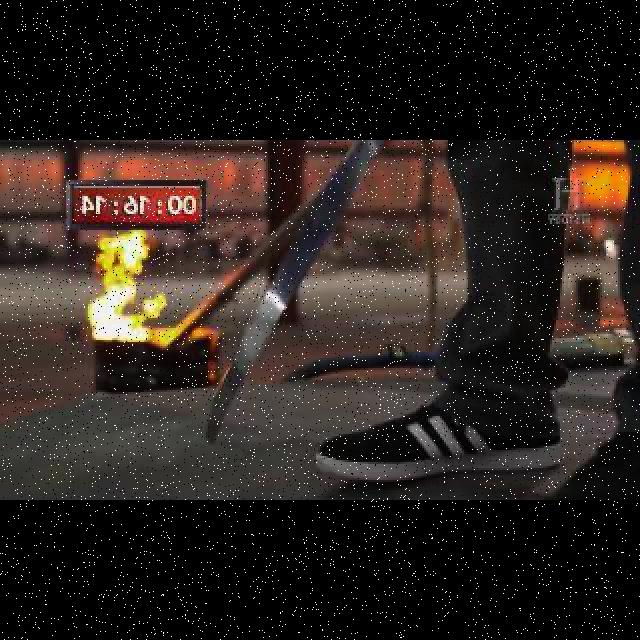fire: (90, 230, 161, 336)
